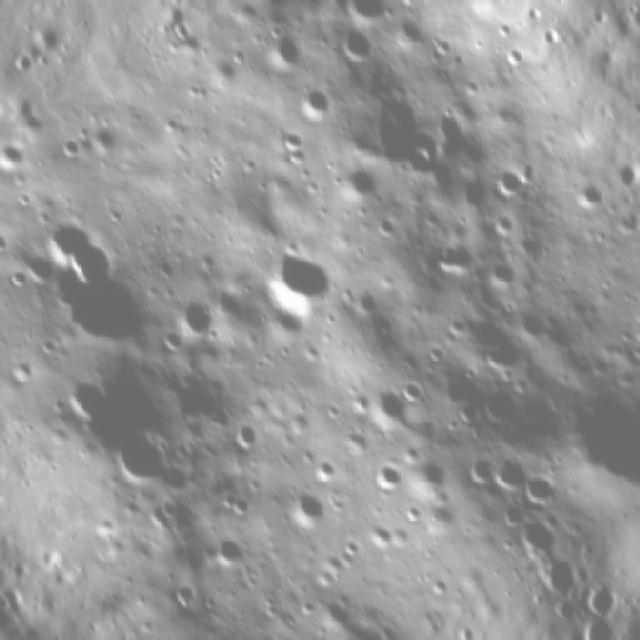crater: (27, 230, 173, 373), (251, 226, 355, 334), (26, 203, 108, 283), (102, 421, 183, 501), (412, 226, 483, 294), (498, 504, 564, 568), (273, 477, 336, 543), (332, 155, 394, 219), (199, 520, 261, 580), (484, 152, 547, 211), (468, 241, 528, 302), (58, 368, 118, 428), (506, 458, 566, 518), (258, 18, 316, 77), (332, 18, 386, 73), (562, 172, 615, 225), (287, 76, 339, 129), (362, 451, 412, 503), (454, 445, 508, 493), (79, 114, 127, 164), (333, 0, 400, 32), (486, 455, 532, 500), (0, 132, 38, 183), (163, 576, 208, 618), (226, 413, 268, 455), (50, 128, 90, 169), (0, 146, 3, 226)
